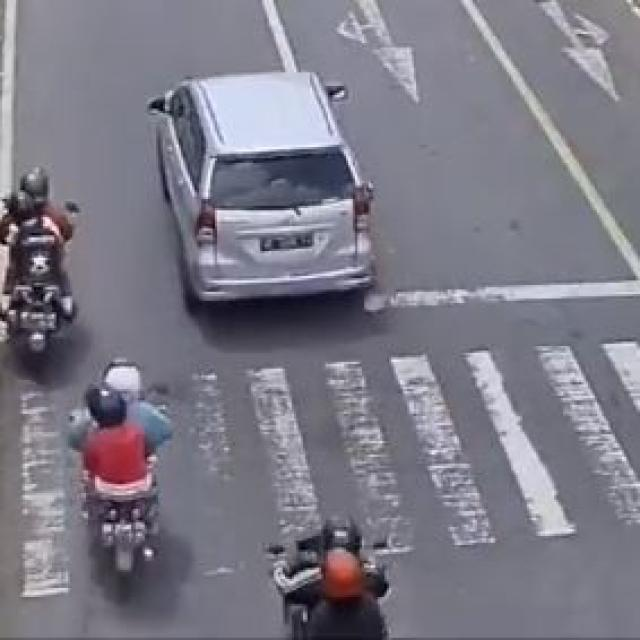car: (152, 60, 434, 321)
motorbike: (55, 365, 182, 586), (262, 496, 420, 640), (2, 154, 88, 342)
